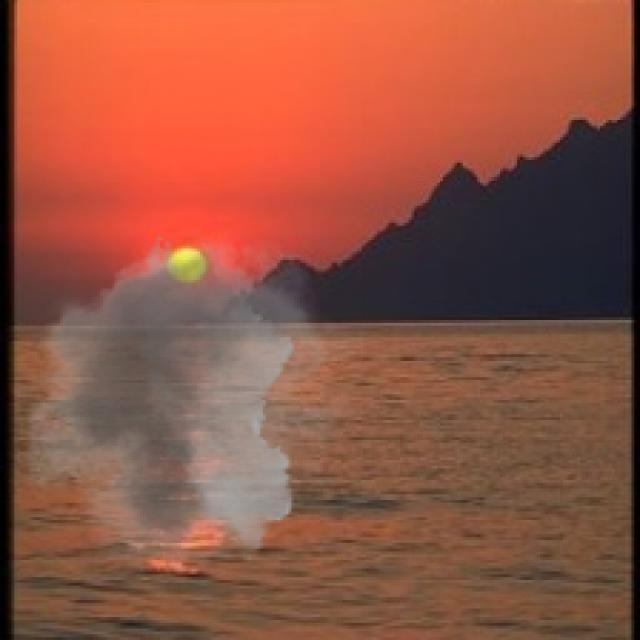smoke: (8, 223, 366, 574)
